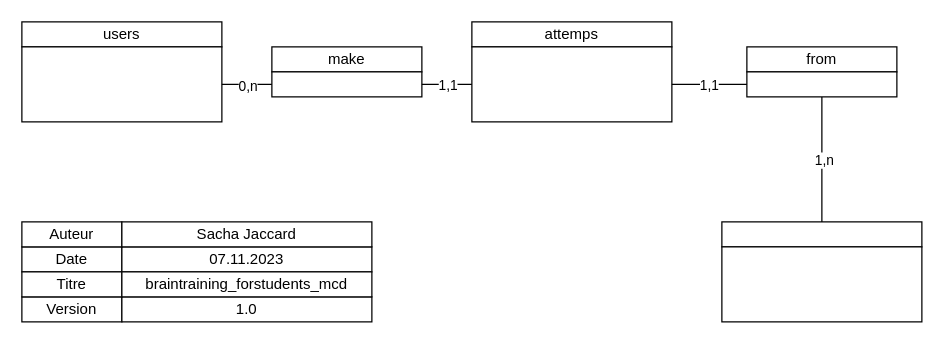
Image size: 944x344. Some labels were removed from this diagram. Each missing label, with the centre of its shape:
exercise texte: [821,284]
games: [821,234]
nickname texte: [121,84]
start_date d ate heure time time nb_ok number nb_total number: [571,84]
